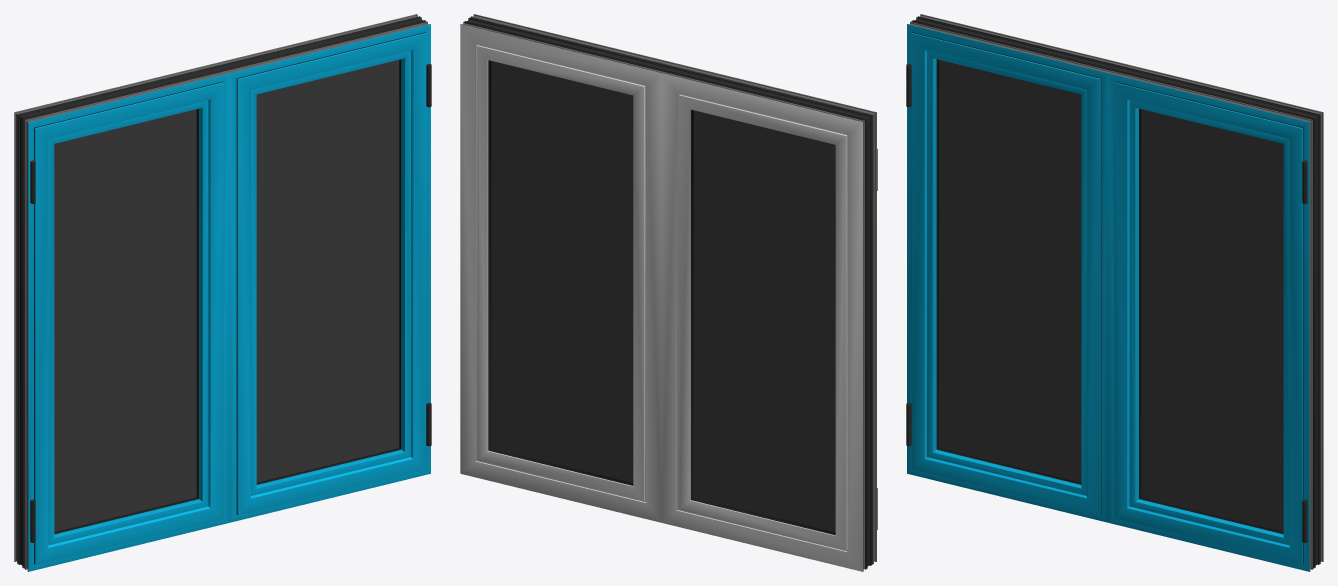
File: 98_2_doors.fbx
3 views of the same model, side by side, from view 1: azimuth 30°, elevation 25°; view 2: azimuth 150°, elevation 25°; view 3: azimuth 330°, elevation 25° (orthographic).
Parts seen in each view (by area): view 1: SM_Door_Frame_98_L_008, SM_Door_Frame_98_R_008, SM_Door_Frame_98_R_010, SM_Door_Frame_98_L_010, SM_Window_Frame_98_002, SM_Window_Frame_98_004, SM_Door_Frame_98_R_013, SM_Door_Frame_98_L_013; view 2: SM_Door_Frame_98_L_008, SM_Door_Frame_98_R_008, SM_Window_Frame_98_002, SM_Door_Frame_98_R_010, SM_Door_Frame_98_L_010, SM_Window_Frame_98_004, SM_Door_Frame_98_L_013, SM_Door_Frame_98_R_013; view 3: SM_Door_Frame_98_R_008, SM_Door_Frame_98_L_008, SM_Door_Frame_98_L_010, SM_Door_Frame_98_R_010, SM_Window_Frame_98_002, SM_Window_Frame_98_004, SM_Door_Frame_98_L_013, SM_Door_Frame_98_R_013.
Boxes of the visible parts, <box> form: SM_Door_Frame_98_L_008: <box>54,109,196,531</box>; SM_Door_Frame_98_R_008: <box>256,60,398,482</box>; SM_Door_Frame_98_R_010: <box>237,33,426,514</box>; SM_Door_Frame_98_L_010: <box>34,82,223,564</box>; SM_Window_Frame_98_002: <box>14,14,430,571</box>; SM_Window_Frame_98_004: <box>17,16,426,568</box>; SM_Door_Frame_98_R_013: <box>236,32,425,514</box>; SM_Door_Frame_98_L_013: <box>34,81,222,564</box>; SM_Door_Frame_98_L_008: <box>693,110,835,532</box>; SM_Door_Frame_98_R_008: <box>491,61,633,482</box>; SM_Window_Frame_98_002: <box>460,14,876,571</box>; SM_Door_Frame_98_R_010: <box>476,44,646,502</box>; SM_Door_Frame_98_L_010: <box>678,93,847,551</box>; SM_Window_Frame_98_004: <box>463,17,872,569</box>; SM_Door_Frame_98_L_013: <box>690,109,835,535</box>; SM_Door_Frame_98_R_013: <box>488,60,633,485</box>; SM_Door_Frame_98_R_008: <box>1141,109,1283,531</box>; SM_Door_Frame_98_L_008: <box>939,60,1081,482</box>; SM_Door_Frame_98_L_010: <box>911,33,1100,514</box>; SM_Door_Frame_98_R_010: <box>1114,82,1303,564</box>; SM_Window_Frame_98_002: <box>907,14,1323,571</box>; SM_Window_Frame_98_004: <box>911,16,1320,568</box>; SM_Door_Frame_98_L_013: <box>912,32,1101,514</box>; SM_Door_Frame_98_R_013: <box>1115,81,1303,564</box>.
Bounding box in the file's own units: 150 × 160 × 10.77.
